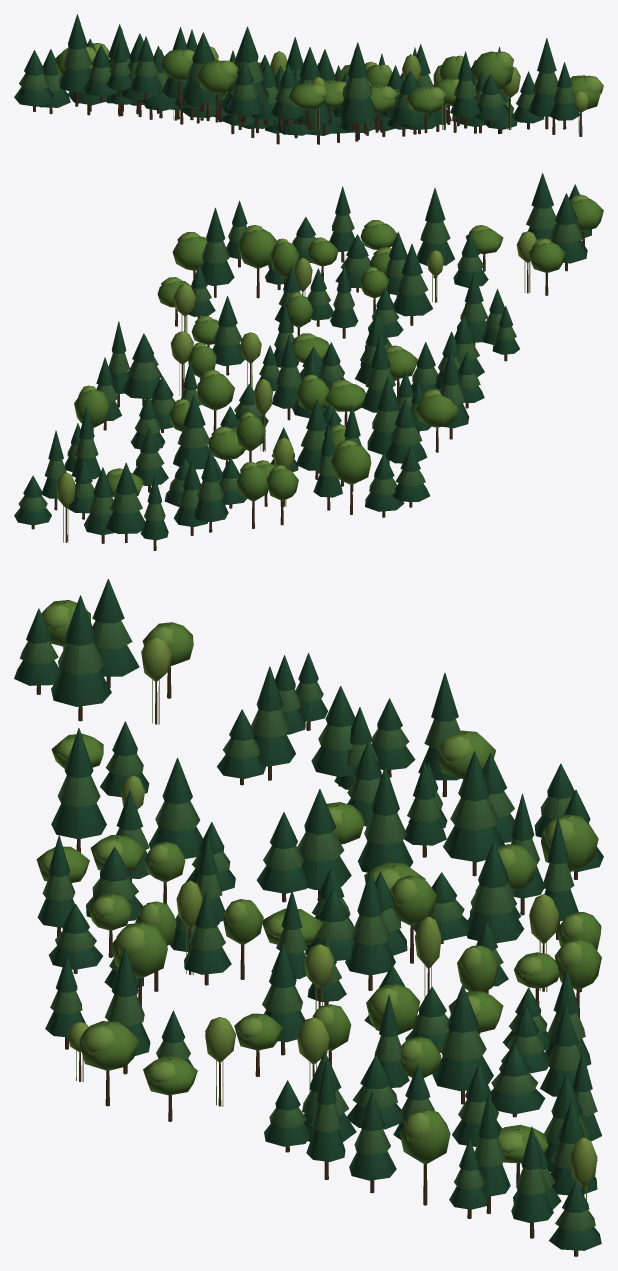
File: forest_6_7.dae
3 renders of one model, top to bottom at view 1: azimuth 30°, elevation 25°; view 2: azimuth 150°, elevation 25°; view 3: azimuth 270°, elevation 25°, orthographic. The views are drawn at different scales.
Parts seen in each view (by area): view 1: forest_6_7; view 2: forest_6_7; view 3: forest_6_7.
Boxes of the visible parts, left/top/right/bottom form: forest_6_7: left=14, top=14, right=603, bottom=144; forest_6_7: left=14, top=173, right=603, bottom=550; forest_6_7: left=14, top=579, right=603, bottom=1256.
Size of the model in its own units: 133 by 117 by 95.8.
